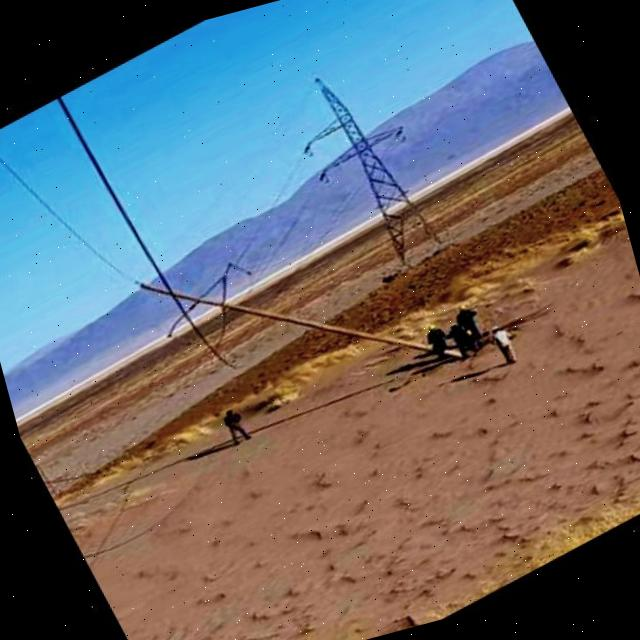Broken Pole: (134, 276, 464, 360)
